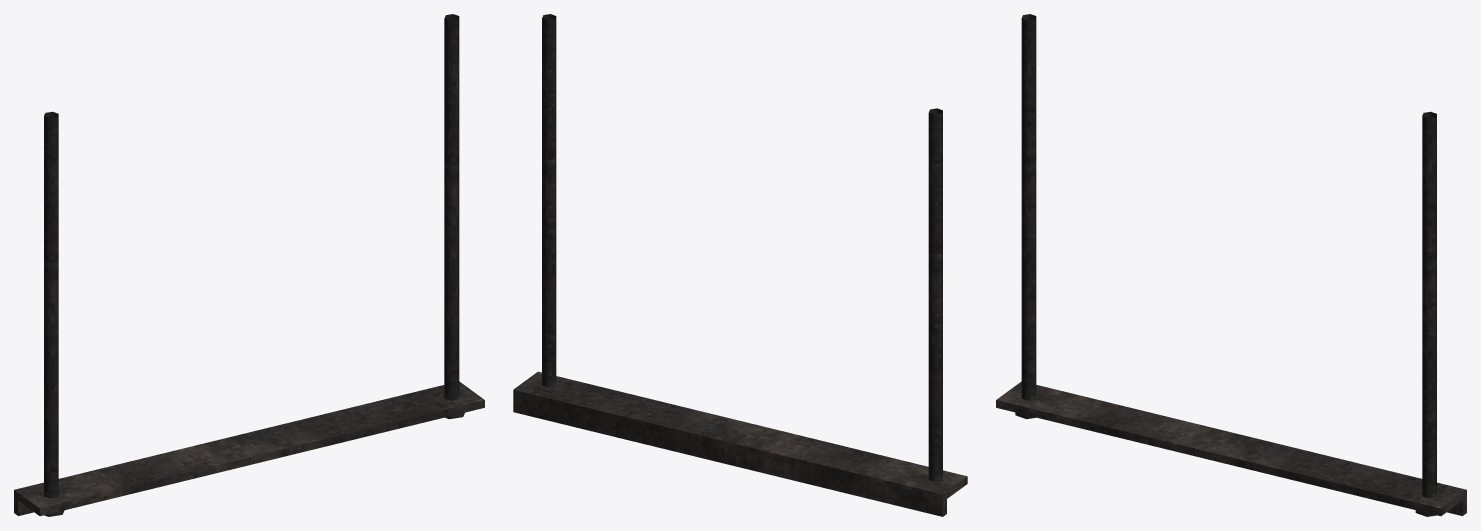
Rendered from pipes_holder_1.glb.
3 renders of one model, left to right at view 1: azimuth 30°, elevation 25°; view 2: azimuth 150°, elevation 25°; view 3: azimuth 330°, elevation 25°, orthographic. The views are drawn at different scales.
Parts seen in each view (by area): view 1: pipes_holder_1; view 2: pipes_holder_1; view 3: pipes_holder_1.
Boxes of the visible parts, left/top/right/bottom form: pipes_holder_1: left=14, top=14, right=484, bottom=516; pipes_holder_1: left=513, top=14, right=967, bottom=516; pipes_holder_1: left=996, top=14, right=1466, bottom=516.
Size of the model in its own units: 0.6 by 0.52 by 0.06.
2 materials, 2 textured.
